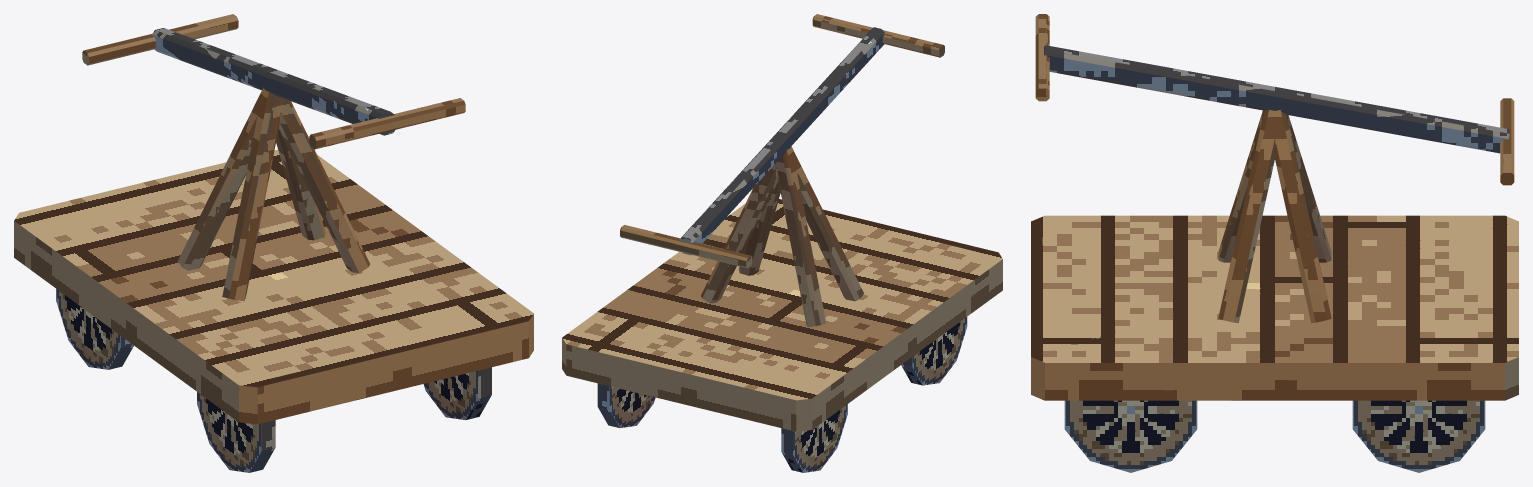
The model's file is wrail.handcar__pumped.glb.
The picture shows the model from 3 angles, left to right: view 1: azimuth 30°, elevation 25°; view 2: azimuth 150°, elevation 25°; view 3: azimuth 270°, elevation 25°; orthographic projection. The views are drawn at different scales.
Parts seen in each view (by area): view 1: kit_frame, kit_aframe, kit_wheels, kit_lever, kit_handles; view 2: kit_frame, kit_aframe, kit_wheels, kit_lever, kit_handles; view 3: kit_frame, kit_wheels, kit_lever, kit_aframe, kit_handles.
Part boxes in pixels (bbox=[...]): kit_frame: bbox=[14, 149, 533, 424]; kit_aframe: bbox=[177, 88, 369, 301]; kit_wheels: bbox=[56, 289, 491, 472]; kit_lever: bbox=[152, 28, 394, 135]; kit_handles: bbox=[82, 14, 465, 149]; kit_frame: bbox=[562, 199, 1002, 431]; kit_aframe: bbox=[701, 146, 863, 327]; kit_wheels: bbox=[597, 317, 967, 472]; kit_lever: bbox=[679, 27, 884, 255]; kit_handles: bbox=[620, 14, 944, 268]; kit_frame: bbox=[1031, 215, 1518, 400]; kit_wheels: bbox=[1064, 400, 1485, 472]; kit_lever: bbox=[1044, 45, 1509, 153]; kit_aframe: bbox=[1218, 109, 1331, 323]; kit_handles: bbox=[1035, 14, 1514, 185].
Bounding box in the file's own units: 1.5 × 1.75 × 2.1.
4 materials, 4 textured.
